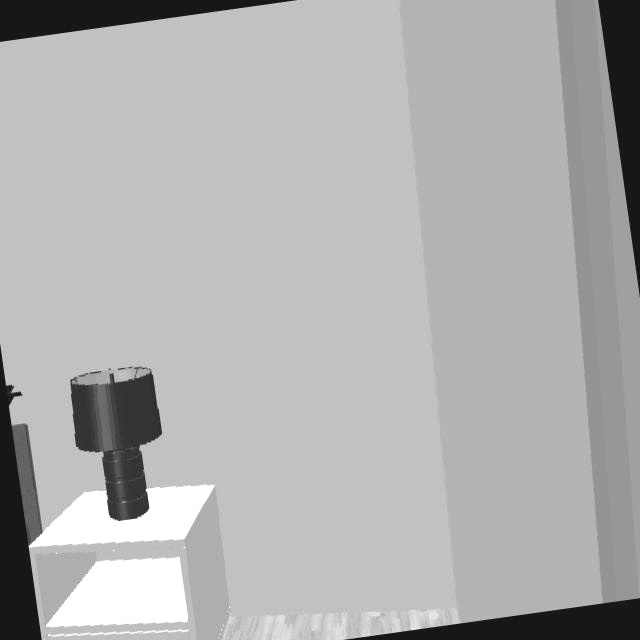bed: (12, 423, 44, 548)
lamp: (69, 366, 164, 523)
nighttable: (29, 485, 230, 640)
